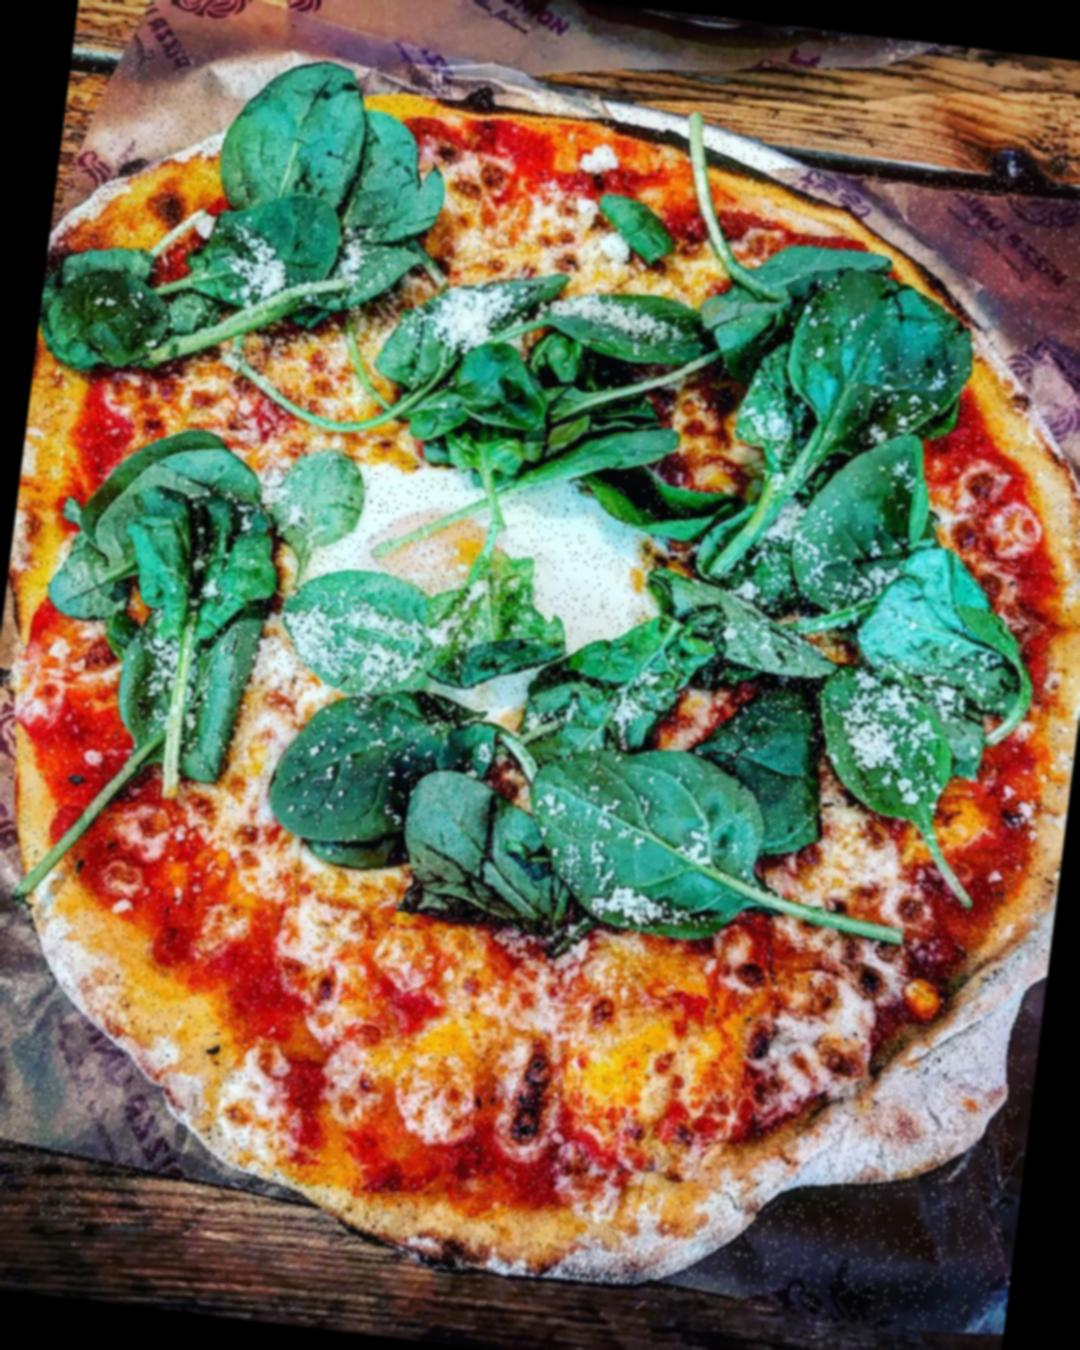Basil: (54, 42, 436, 395), (28, 426, 310, 786), (676, 222, 950, 473), (386, 262, 672, 488), (519, 724, 787, 942), (259, 681, 494, 889), (699, 423, 941, 612), (836, 539, 1039, 750), (292, 529, 550, 694), (800, 652, 983, 877), (396, 754, 603, 939), (529, 594, 709, 770), (701, 668, 834, 842), (644, 572, 823, 677)
Pizza: (0, 29, 1080, 1333)
